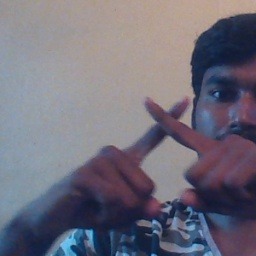X: (97, 84, 229, 213)
